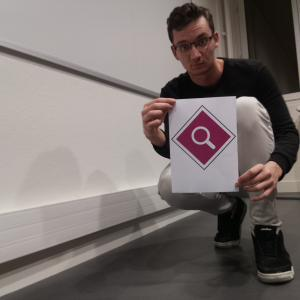search: (172, 105, 235, 170)
